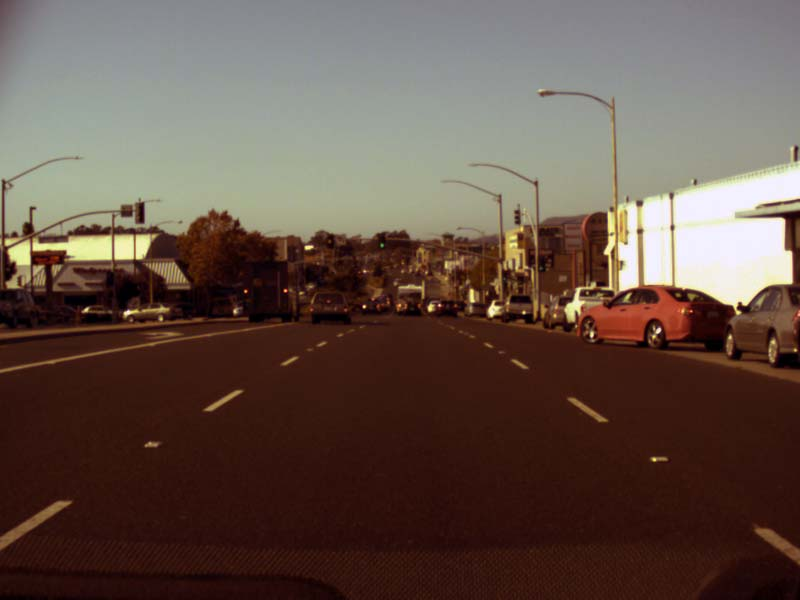Green: (538, 257, 544, 271), (379, 234, 384, 248), (502, 270, 506, 281)
Yellow: (326, 235, 332, 247)
